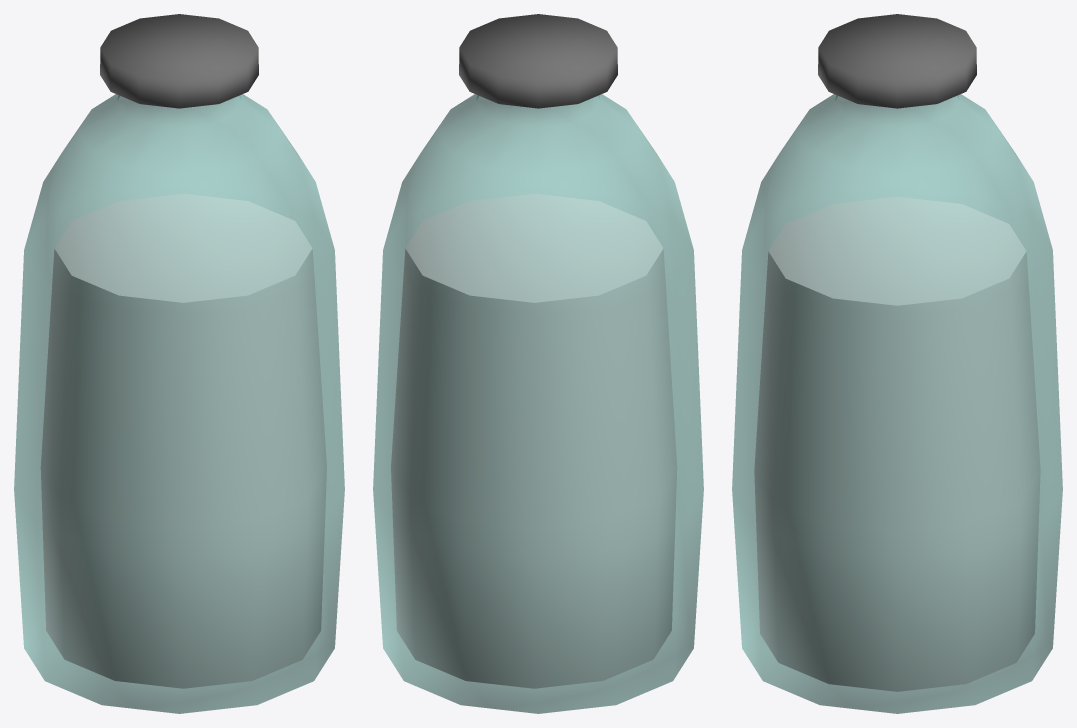
The model's file is Milk.fbx.
3 renders of one model, left to right at view 1: azimuth 30°, elevation 25°; view 2: azimuth 150°, elevation 25°; view 3: azimuth 270°, elevation 25°, orthographic.
Visible parts, largest first — view 1: Milk; view 2: Milk; view 3: Milk.
Part boxes in pixels (x1,y1,x2,y2): Milk: [14, 14, 344, 713]; Milk: [373, 14, 703, 713]; Milk: [732, 14, 1062, 713].
Bounding box in the file's own units: 25.3 × 50.69 × 25.3.
